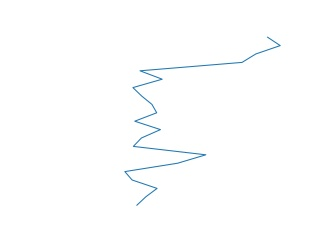crevasseRiverChannelBar: (121, 32, 283, 207)
